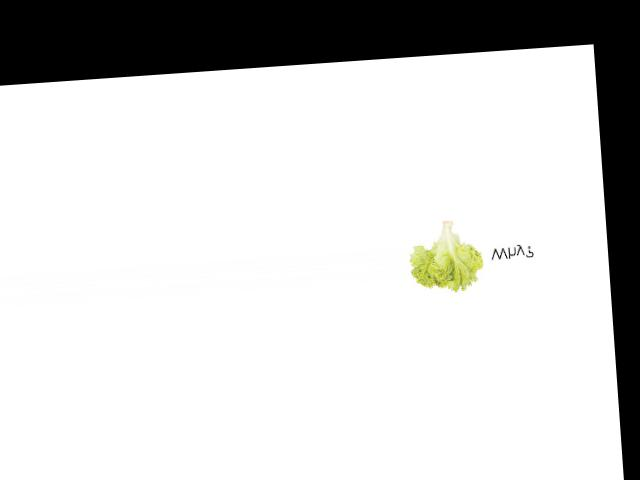lettuce: (404, 216, 492, 295)
